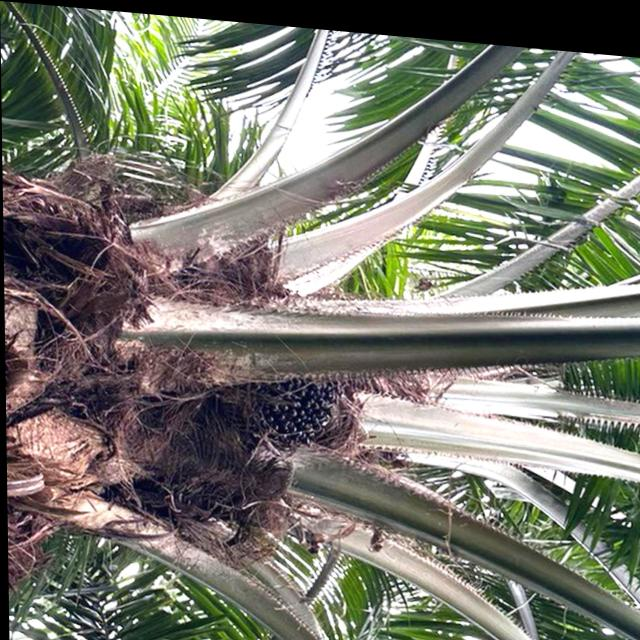unripe: (221, 329, 358, 457)
